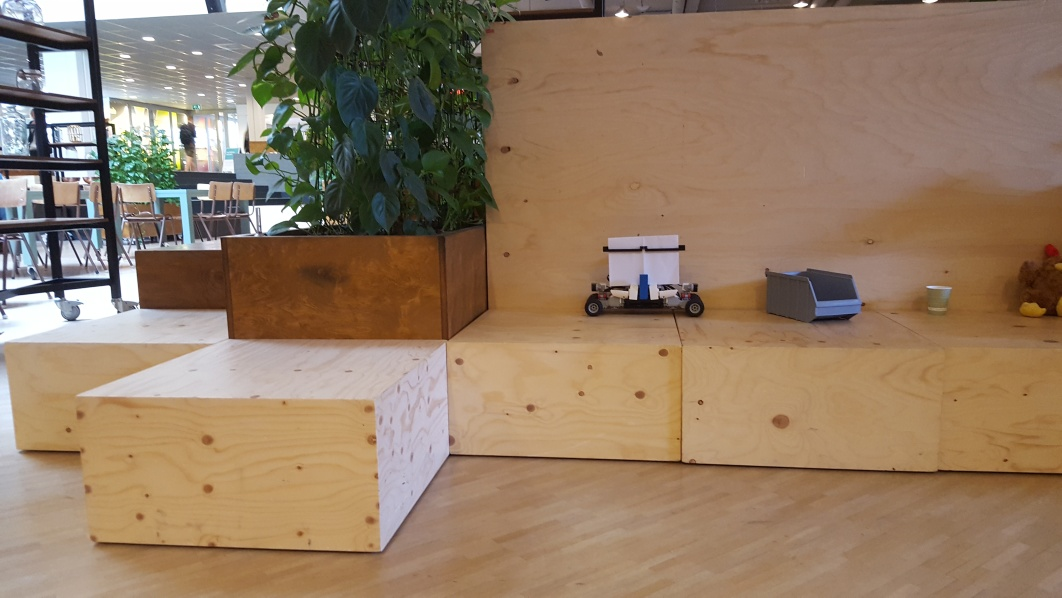car: (585, 232, 706, 323)
chicken: (1019, 242, 1062, 317)
cup: (924, 280, 953, 315)
tray: (760, 266, 867, 325)
